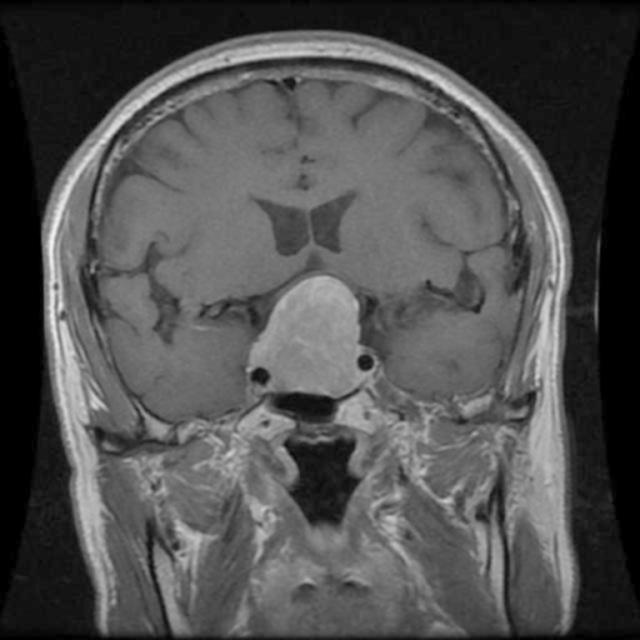no tumor: (248, 274, 368, 410)
